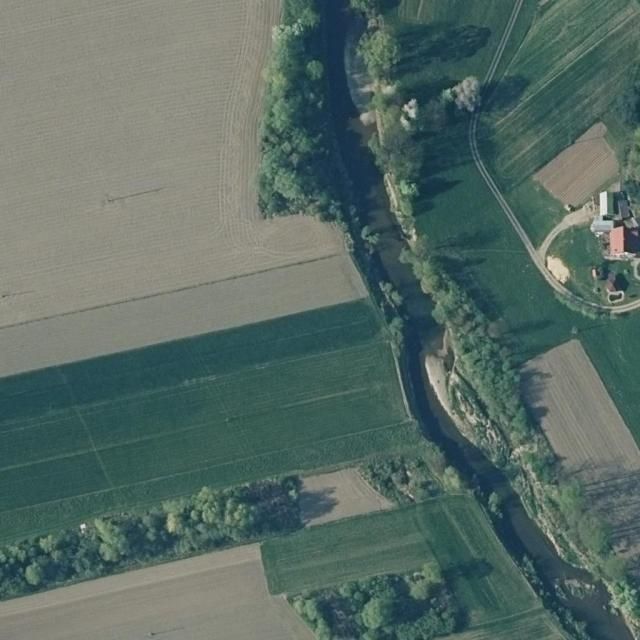agricultural_land: (258, 503, 437, 598), (532, 119, 634, 218), (579, 310, 640, 448), (293, 459, 395, 528), (501, 171, 574, 248)
greenland: (388, 227, 549, 449), (240, 0, 342, 228), (328, 192, 429, 358), (358, 431, 467, 525), (541, 475, 623, 565), (515, 430, 577, 500), (440, 73, 490, 122), (360, 597, 395, 631), (485, 490, 503, 514)
unmetalled_road: (453, 111, 580, 313), (531, 195, 603, 262), (481, 0, 525, 89)
